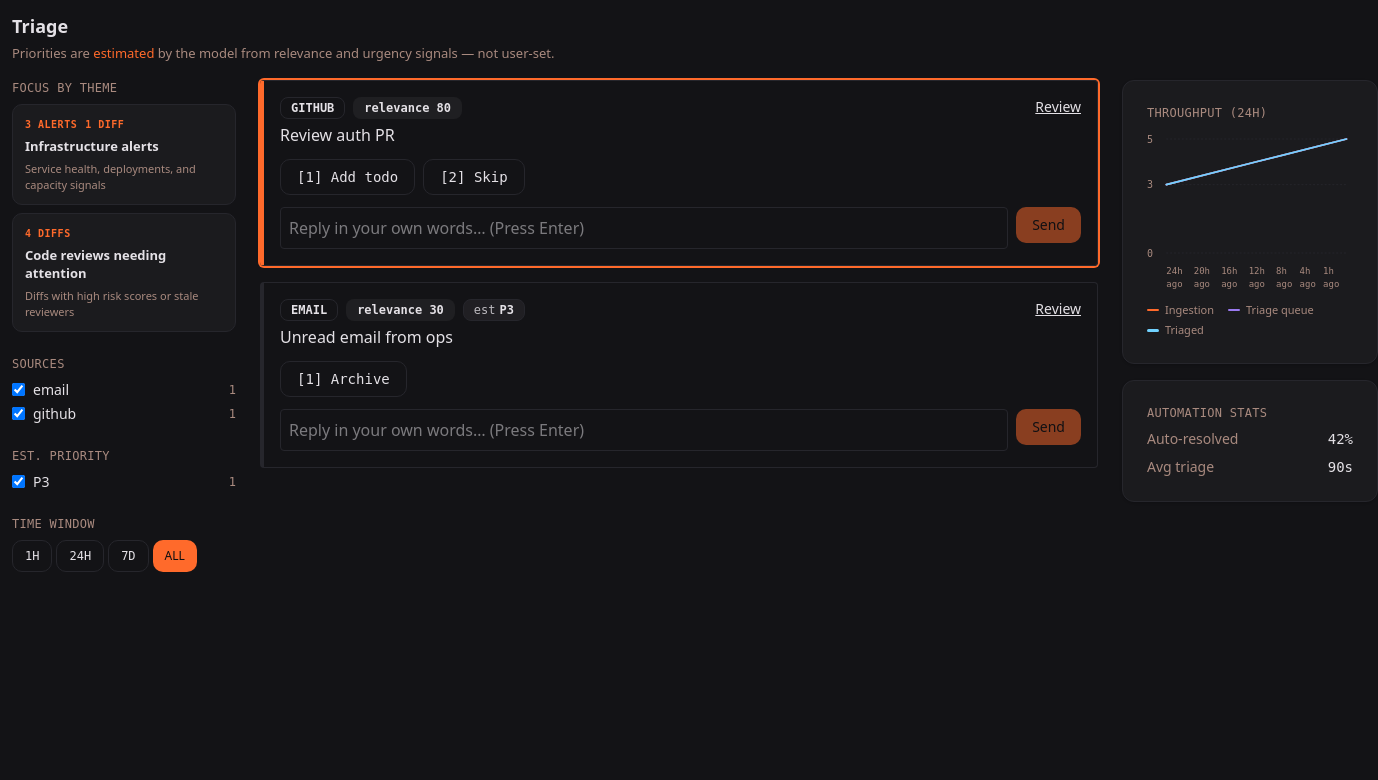
Test case: Triage page › renders a source filter (with counts) and narrows the feed when toggled
Expected: the button "Review auth PR" is shown, [280, 124, 395, 147]
Expected: the button "Unread email from ops" is shown, [280, 326, 453, 349]
# unchecking email hides the email card, keeps github
Click the checkbox labelled "email 1".
click(18, 390)  # box [12, 383, 25, 396]
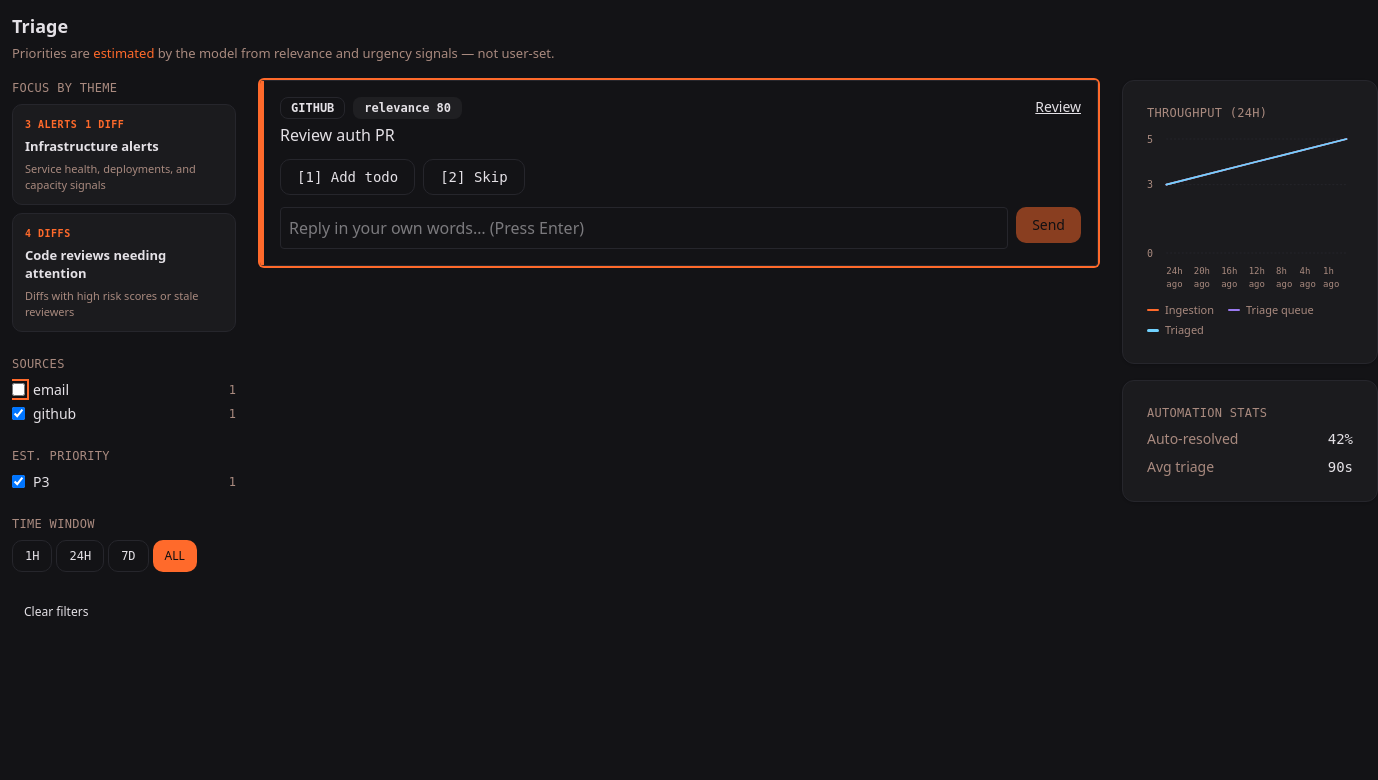
Expected: the button "Review auth PR" is shown, [280, 124, 395, 147]
Expected: the button "Unread email from ops" is gone
